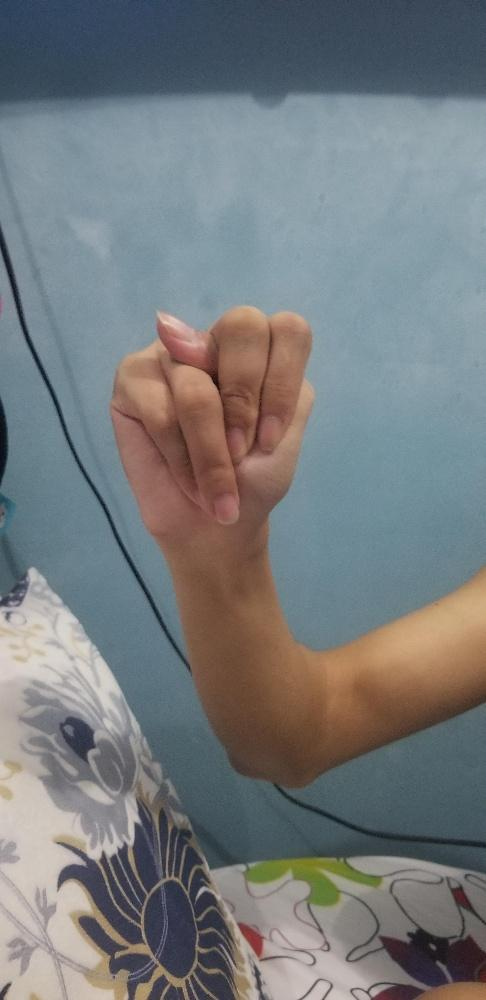n: (108, 300, 319, 551)
